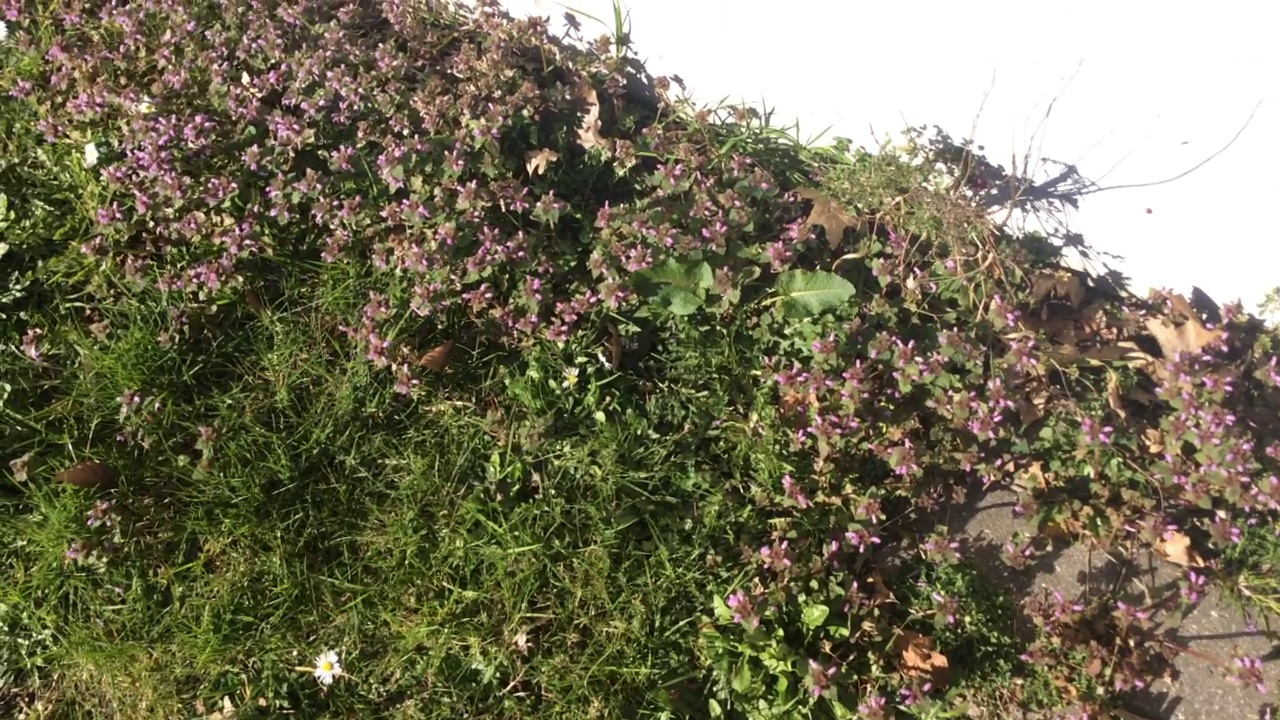rumex: (622, 256, 858, 319)
